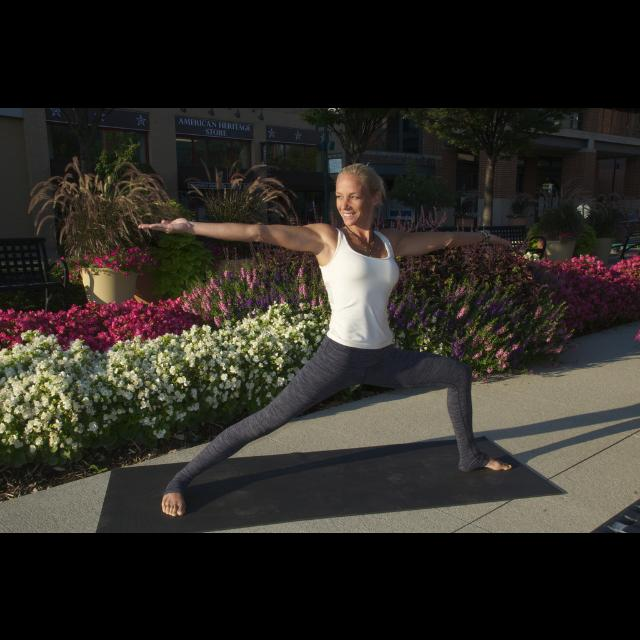Flower: (0, 301, 328, 461), (520, 255, 640, 342), (0, 301, 216, 347), (60, 248, 156, 272)
